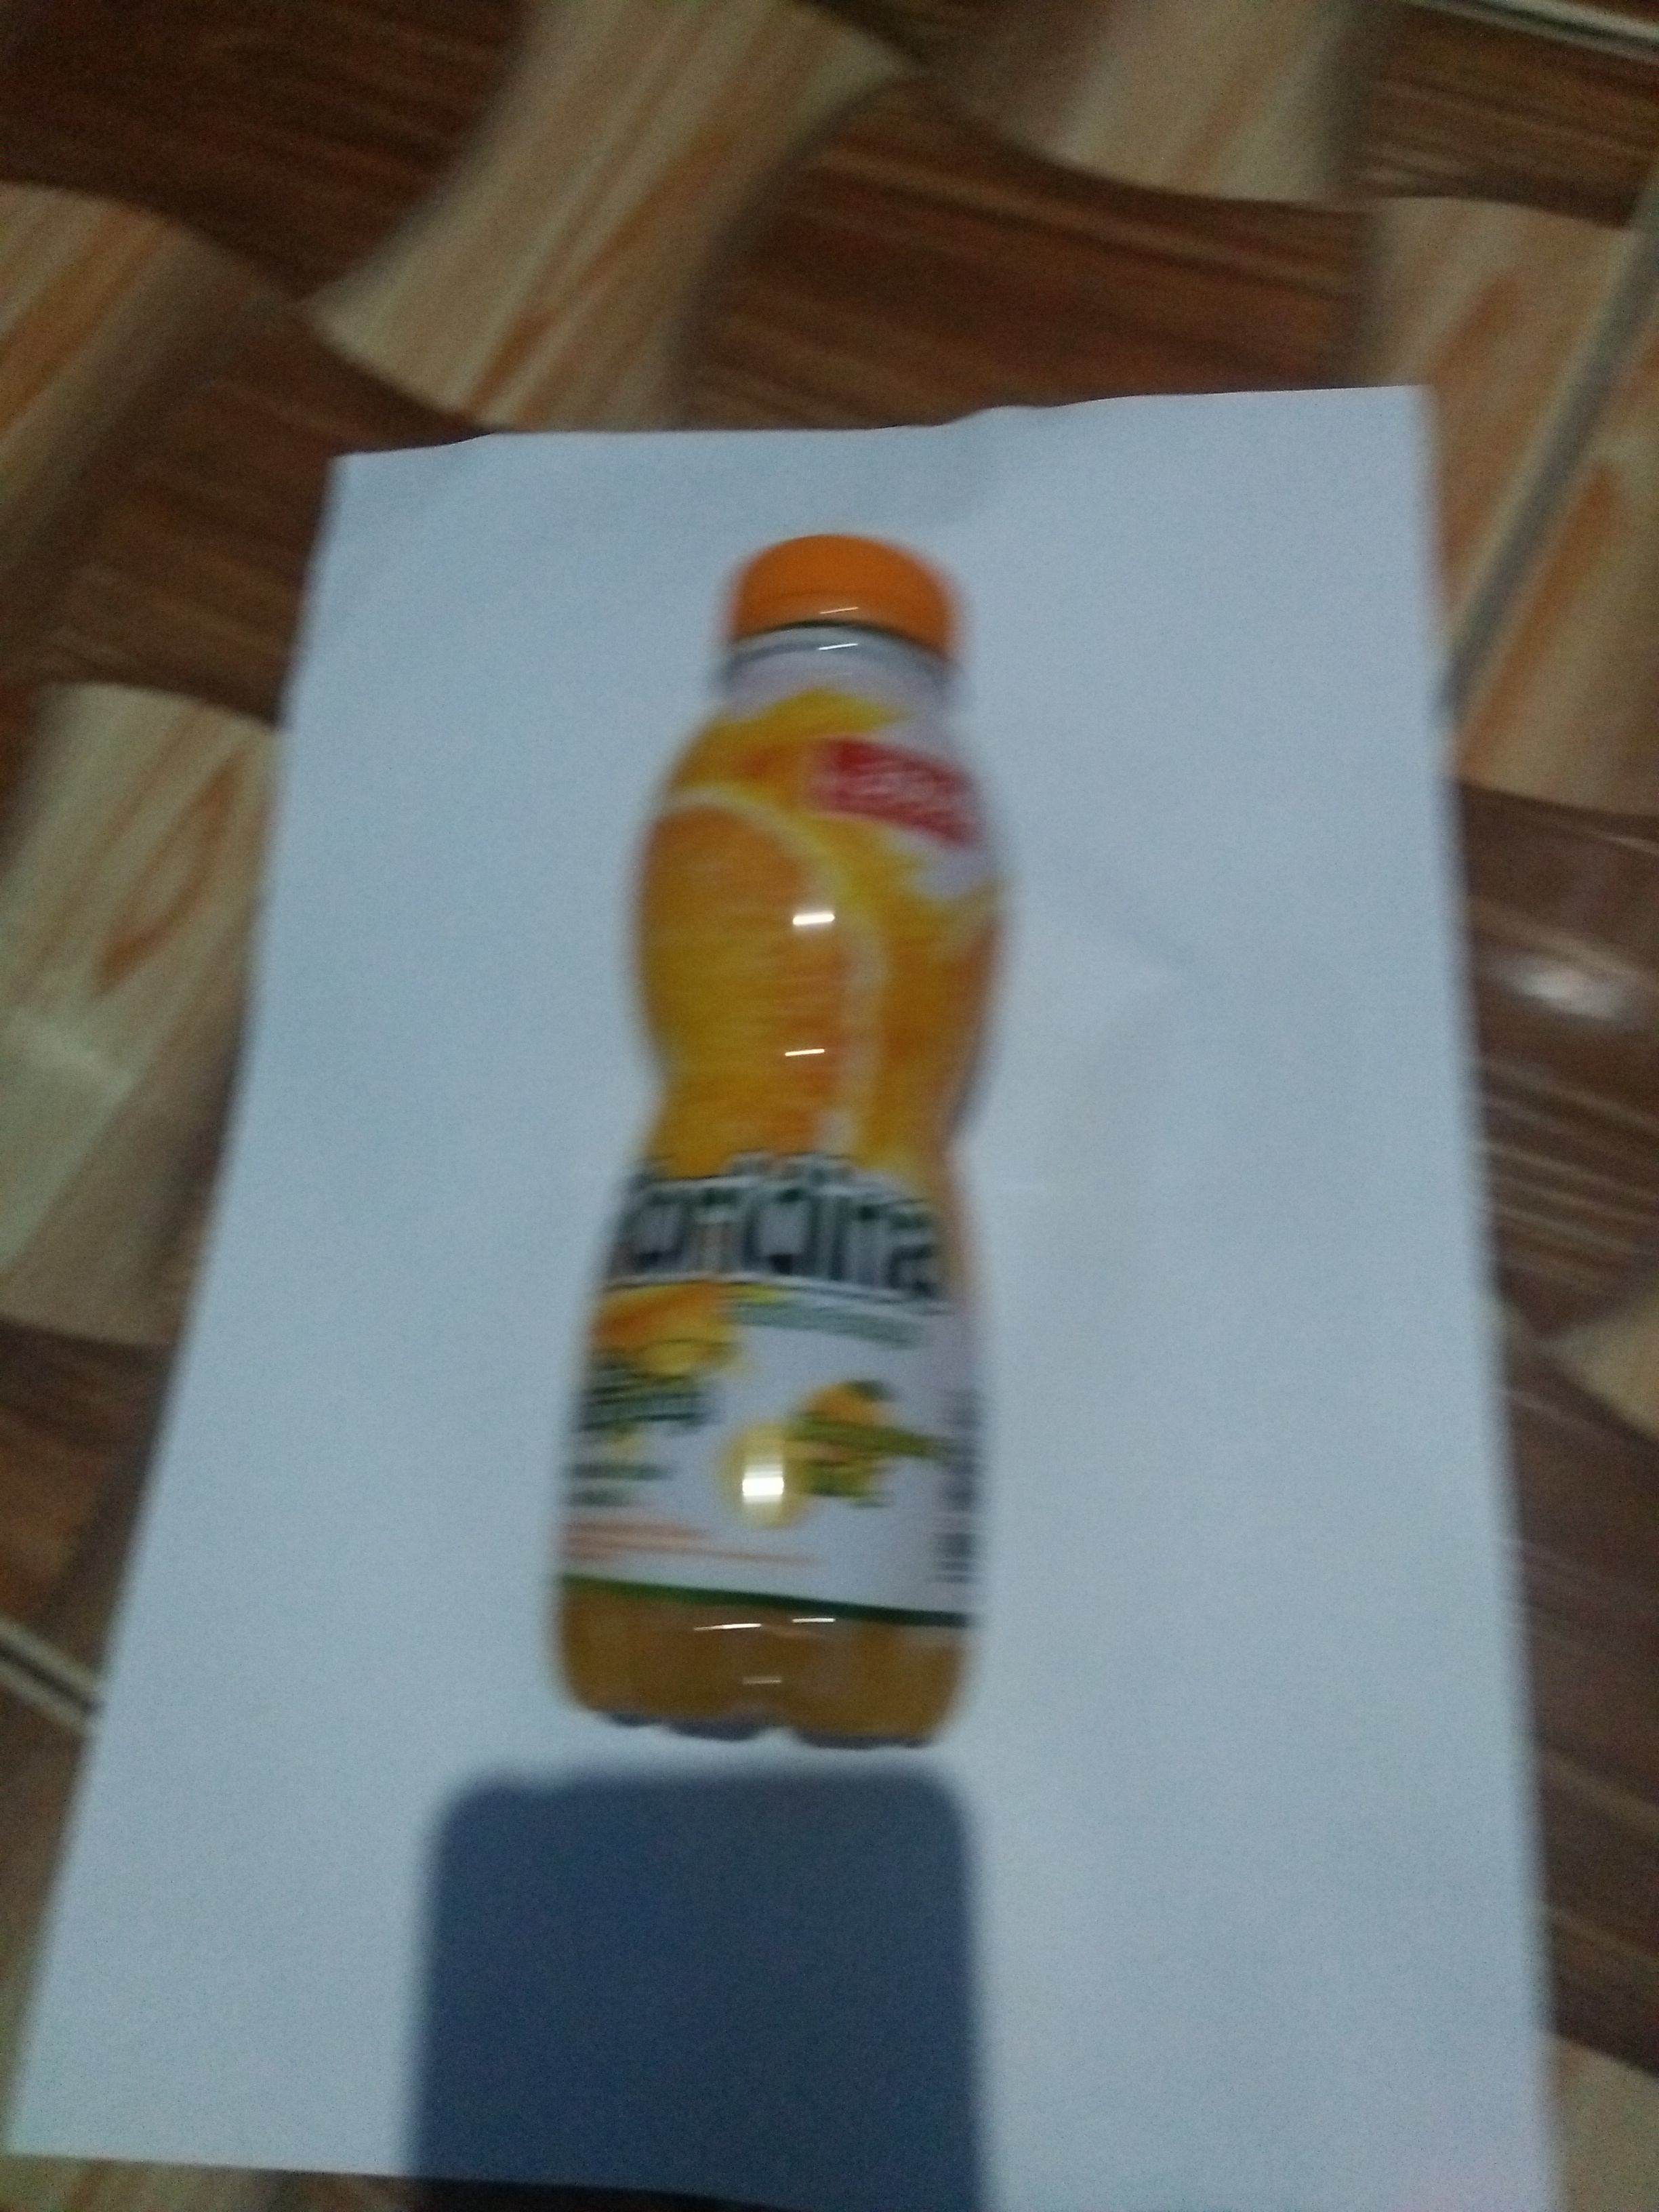Floridina: (528, 509, 1037, 1791)
